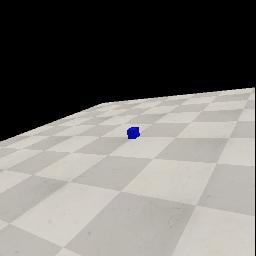box: (127, 127, 140, 139)
